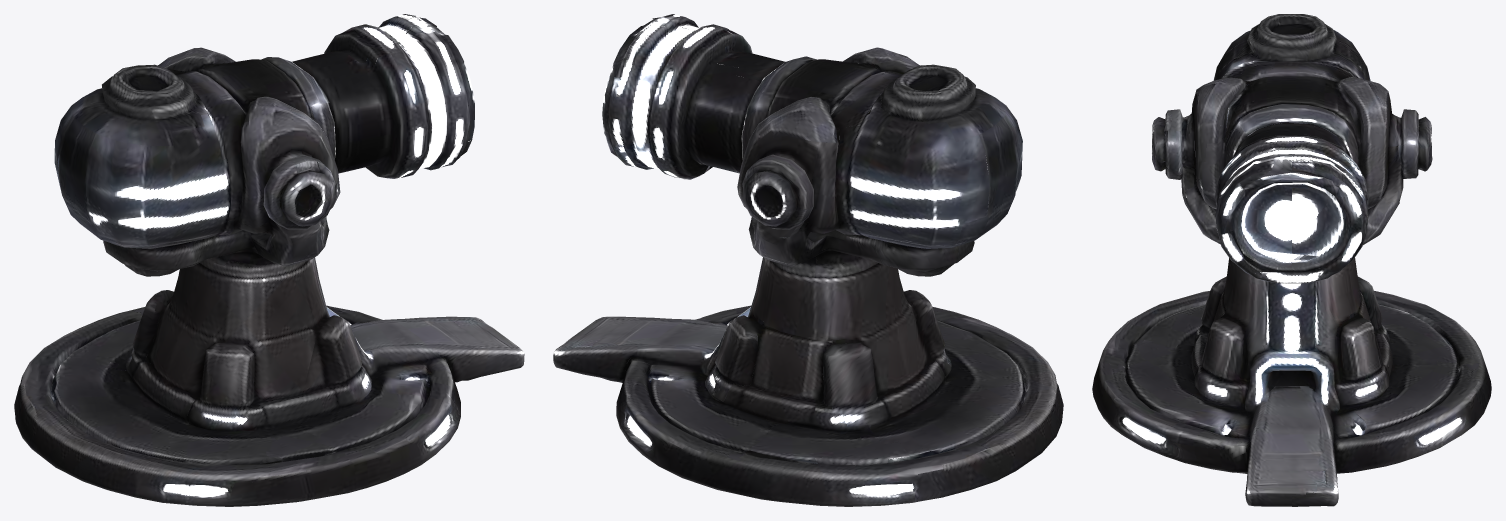
Rendered from Relay_Cannon_v4_T3.glb.
3 views of the same model, side by side, from view 1: azimuth 30°, elevation 25°; view 2: azimuth 150°, elevation 25°; view 3: azimuth 270°, elevation 25° (orthographic). The views are drawn at different scales.
Parts seen in each view (by area): view 1: Relay_Cannon_v4, Head; view 2: Relay_Cannon_v4, Head; view 3: Relay_Cannon_v4, Head.
Boxes of the visible parts, x1=… form: Relay_Cannon_v4: x1=14, y1=220, x2=524, y2=506; Head: x1=54, y1=14, x2=474, y2=276; Relay_Cannon_v4: x1=553, y1=236, x2=1063, y2=506; Head: x1=602, y1=14, x2=1022, y2=276; Relay_Cannon_v4: x1=1092, y1=258, x2=1491, y2=506; Head: x1=1151, y1=14, x2=1432, y2=283.
Bounding box in the file's own units: 9.76 × 7.34 × 8.11.
Materials: 1 (1 with a texture image).
